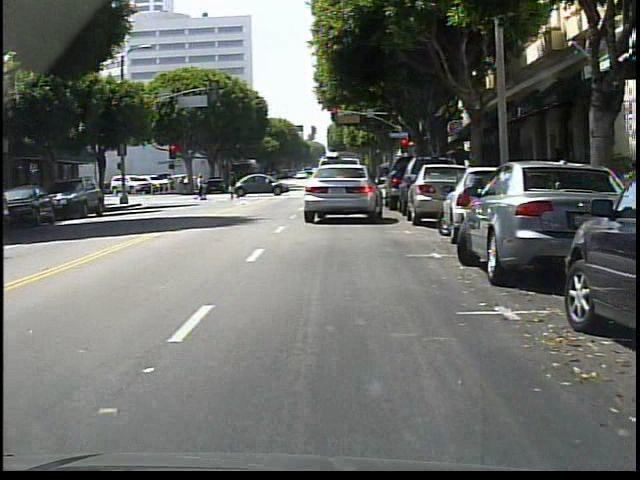person: (228, 172, 241, 201), (196, 174, 209, 200), (267, 172, 275, 191)
